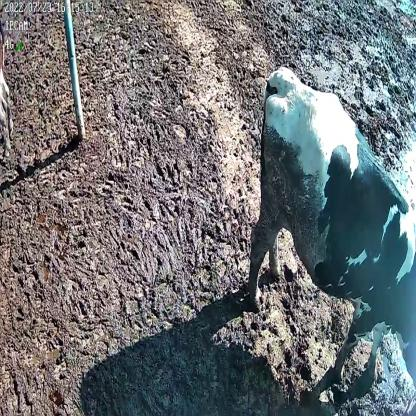cow: (248, 66, 416, 386)
